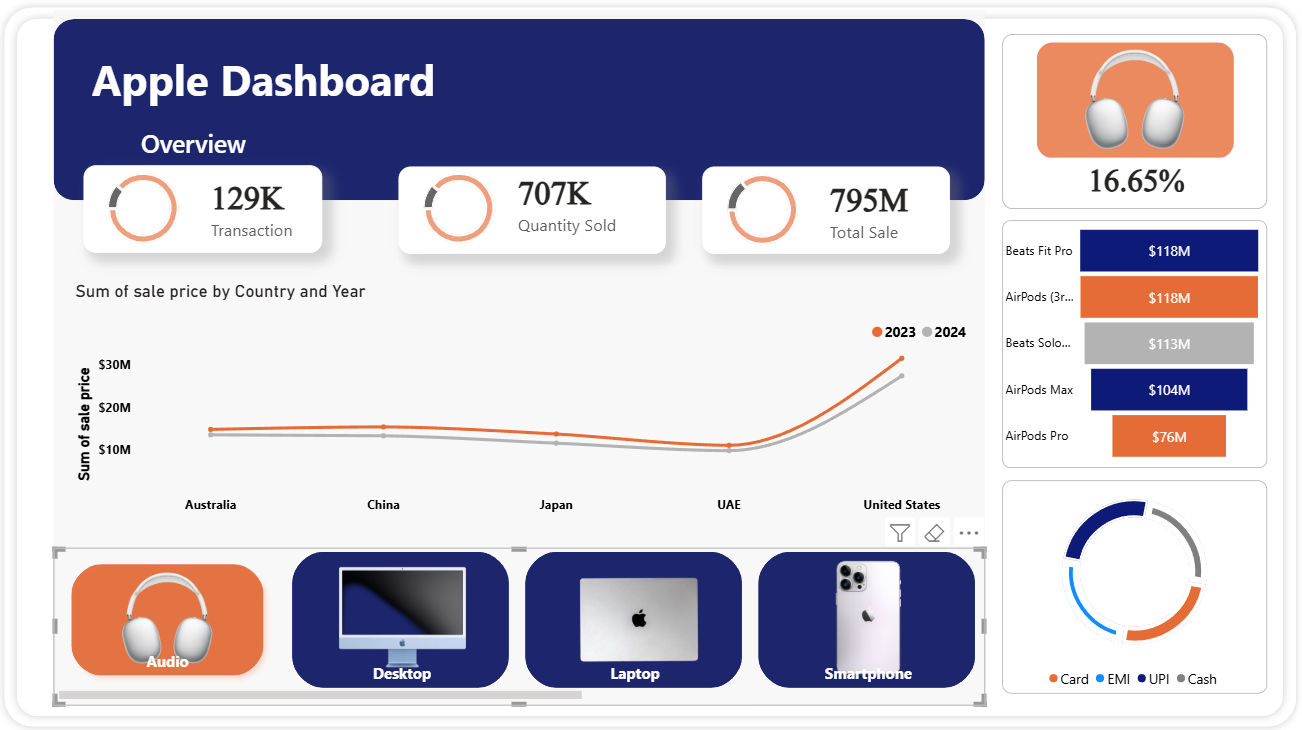

This screenshot's page, from the dashboard's own definition file:
{"tool":"powerbi","page":{"name":"Page 1","canvas":[1280,720],"ordinal":0},"visuals":[{"type":"shape","box":[0,0,1280,720],"z":0},{"type":"shape","box":[12.2,11,1255,698.8],"z":1000},{"type":"shape","box":[56.3,11,911,679.9],"z":2000},{"type":"shape","box":[56.3,19.6,911,177.3],"z":3000},{"type":"textbox","box":[137,119.8,262.9,44],"z":4000},{"type":"advancedSlicerVisual","fields":{"Values":["category.category_name"]},"box":[56.3,536.8,911,154.1],"z":5000},{"type":"lineChart","fields":{"Y":["Sum(sales.Total price)"],"Category":["stores.Country"],"Series":["sales.sale_date.Variation.Date Hierarchy.Year"]},"box":[64.8,275.1,895.1,237.2],"z":6000},{"type":"cardVisual","fields":{"Data":["sales.transaction"]},"box":[85.6,162.6,233.6,85.6],"z":7000},{"type":"cardVisual","fields":{"Data":["sales.Quantity Sold"]},"box":[393.8,163.9,261.7,85.6],"z":8000},{"type":"cardVisual","fields":{"Data":["Merge1.Total Sale"]},"box":[690.9,163.9,242.1,85.6],"z":9000},{"type":"donutChart","fields":{"Y":["sales.Transaction","sales.total trans all categories"]},"box":[85.6,156.5,117.4,96.6],"z":10000},{"type":"donutChart","fields":{"Y":["sales.Quantity Sold","sales.total quan all categories"]},"box":[393.8,156.5,118.6,96.6],"z":11000},{"type":"shape","box":[984.4,34.2,259.2,171.2],"z":12000},{"type":"cardVisual","fields":{"Data":["sales.sale%"]},"box":[1039.4,141.8,162.6,64.8],"z":12500},{"type":"image","box":[1017.4,41.6,194.4,114.9],"z":13000},{"type":"funnel","fields":{"Category":["products.Product_Name"],"Y":["Sum(sales.sale price)"]},"box":[984.4,216.4,259.2,242.1],"z":14000},{"type":"donutChart","fields":{"Category":["sales.payment_mode"],"Y":["CountNonNull(sales.sale price)"]},"box":[984.4,470.8,259.2,209.1],"z":15000},{"type":"donutChart","fields":{"Y":["Merge1.Total Sale","sales.total sale all categories"]},"box":[690.9,157.7,118.6,96.6],"z":17000}]}

Visuals, with their boxes in screenshot pixels (x1, y1, x2, y2), scaled from the page's 1280x720 canvas onto the 1302x730 screenshot:
shape: box(0, 0, 1301, 729)
shape: box(12, 11, 1289, 720)
shape: box(57, 11, 984, 700)
shape: box(57, 20, 984, 200)
textbox: box(139, 121, 407, 166)
advancedSlicerVisual - category.category_name: box(57, 544, 984, 700)
lineChart - Sum(sales.Total price) x stores.Country: box(66, 279, 976, 519)
cardVisual - sales.transaction: box(87, 165, 325, 252)
cardVisual - sales.Quantity Sold: box(401, 166, 667, 253)
cardVisual - Merge1.Total Sale: box(703, 166, 949, 253)
donutChart - sales.Transaction x sales.total trans all categories: box(87, 159, 206, 257)
donutChart - sales.Quantity Sold x sales.total quan all categories: box(401, 159, 521, 257)
shape: box(1001, 35, 1265, 208)
cardVisual - sales.sale%: box(1057, 144, 1223, 209)
image: box(1035, 42, 1233, 159)
funnel - products.Product_Name x Sum(sales.sale price): box(1001, 219, 1265, 465)
donutChart - sales.payment_mode x CountNonNull(sales.sale price): box(1001, 477, 1265, 689)
donutChart - Merge1.Total Sale x sales.total sale all categories: box(703, 160, 823, 258)
